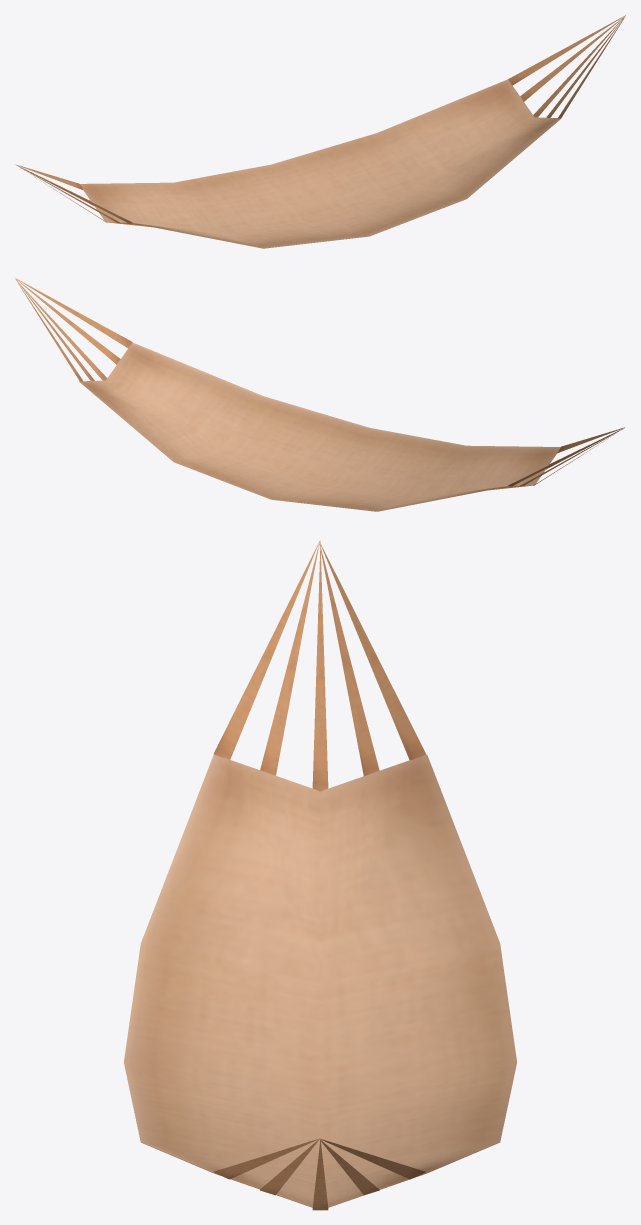
Rendered from HammockSimple.fbx.
3 renders of one model, top to bottom at view 1: azimuth 30°, elevation 25°; view 2: azimuth 150°, elevation 25°; view 3: azimuth 270°, elevation 25°, orthographic. The views are drawn at different scales.
Visible parts, largest first — view 1: Hammock_01; view 2: Hammock_01; view 3: Hammock_01.
Part boxes in pixels (<box>): Hammock_01: <box>15,15,625,248</box>; Hammock_01: <box>15,278,624,511</box>; Hammock_01: <box>124,540,516,1210</box>.
Size of the model in its own units: 83.85 by 17.04 by 23.31.
